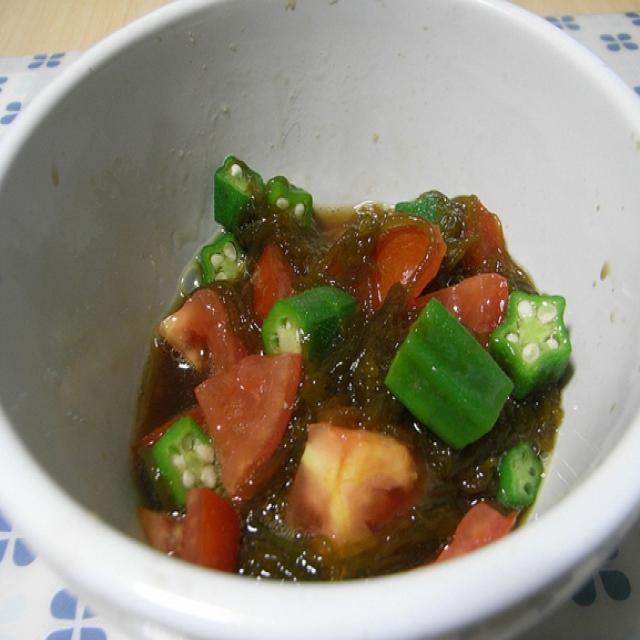蔬菜料理: (10, 15, 633, 618)
